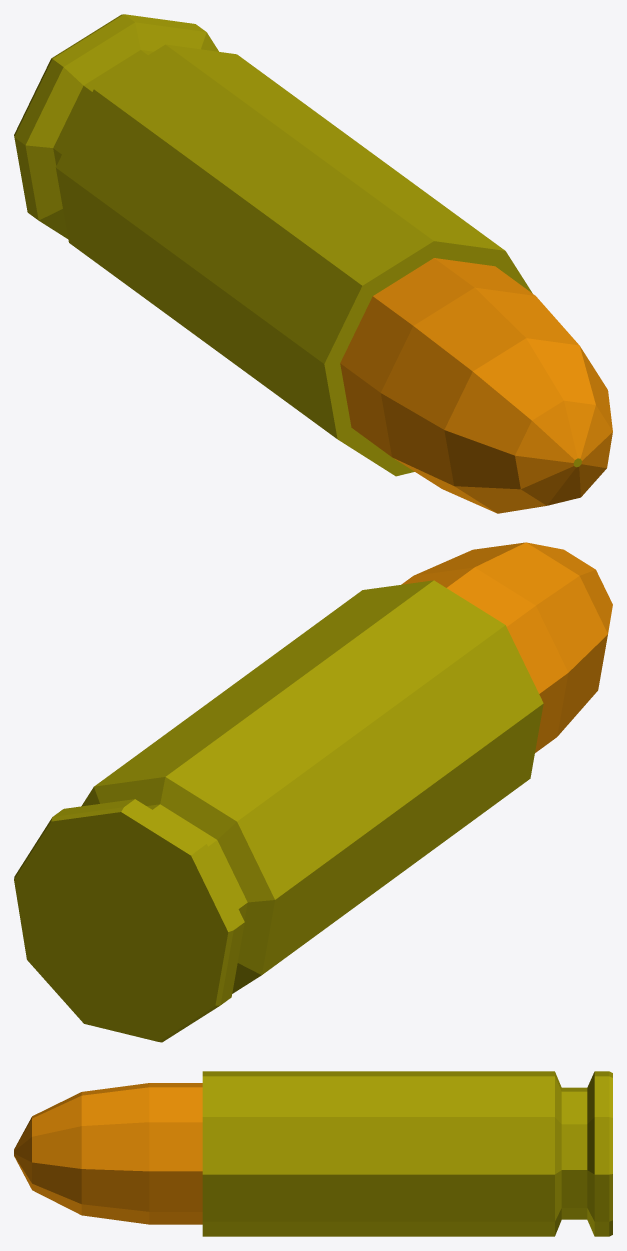
Rendered from Bullet.fbx.
3 views of the same model, one above another, from view 1: azimuth 30°, elevation 25°; view 2: azimuth 150°, elevation 25°; view 3: azimuth 270°, elevation 25° (orthographic). The views are drawn at different scales.
Visible parts, largest first — view 1: Walec; view 2: Walec; view 3: Walec.
Part boxes in pixels (bbox=[...]): Walec: bbox=[14, 14, 612, 513]; Walec: bbox=[14, 542, 612, 1042]; Walec: bbox=[14, 1071, 612, 1236].
Bounding box in the file's own units: 197 × 194 × 710.
